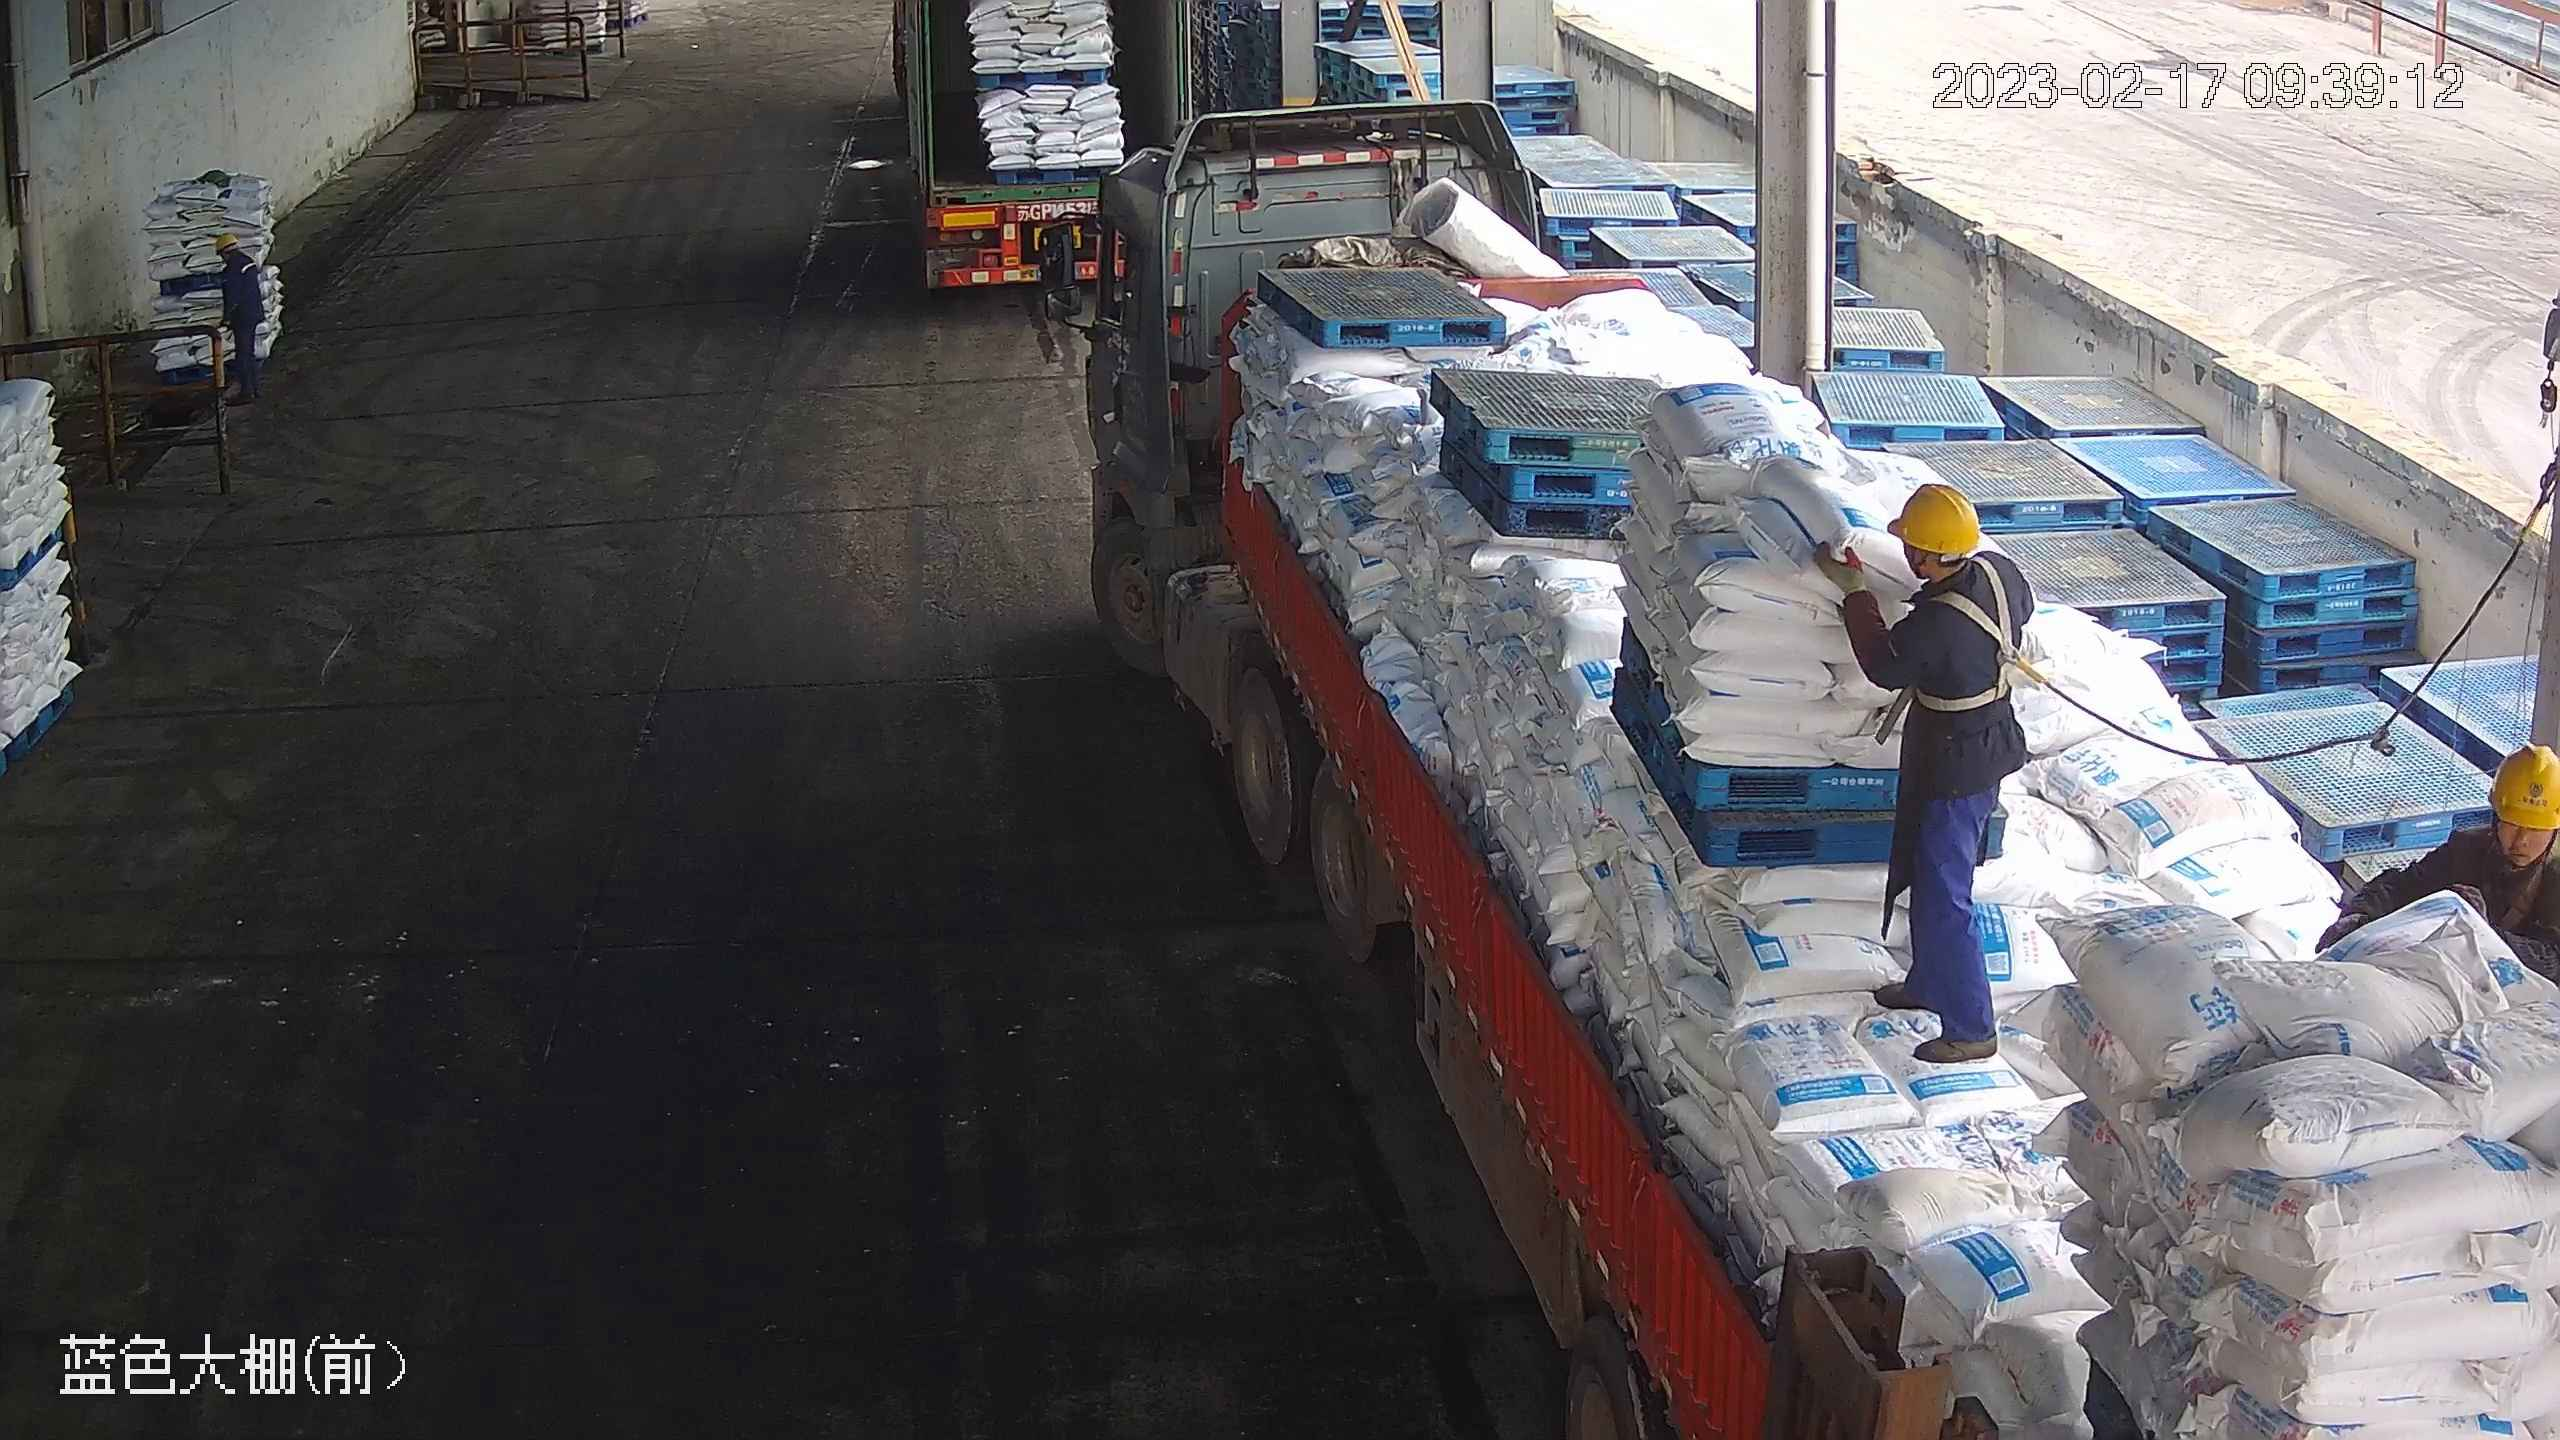belt: (1918, 564, 2036, 716), (2479, 831, 2558, 929)
head: (1824, 480, 2032, 659), (2422, 739, 2560, 908)
helmet: (1887, 476, 1985, 554), (2488, 739, 2560, 830)
people: (1822, 481, 2031, 1067), (212, 230, 263, 410)
truck: (1039, 98, 2555, 1436), (872, 1, 1144, 293)
